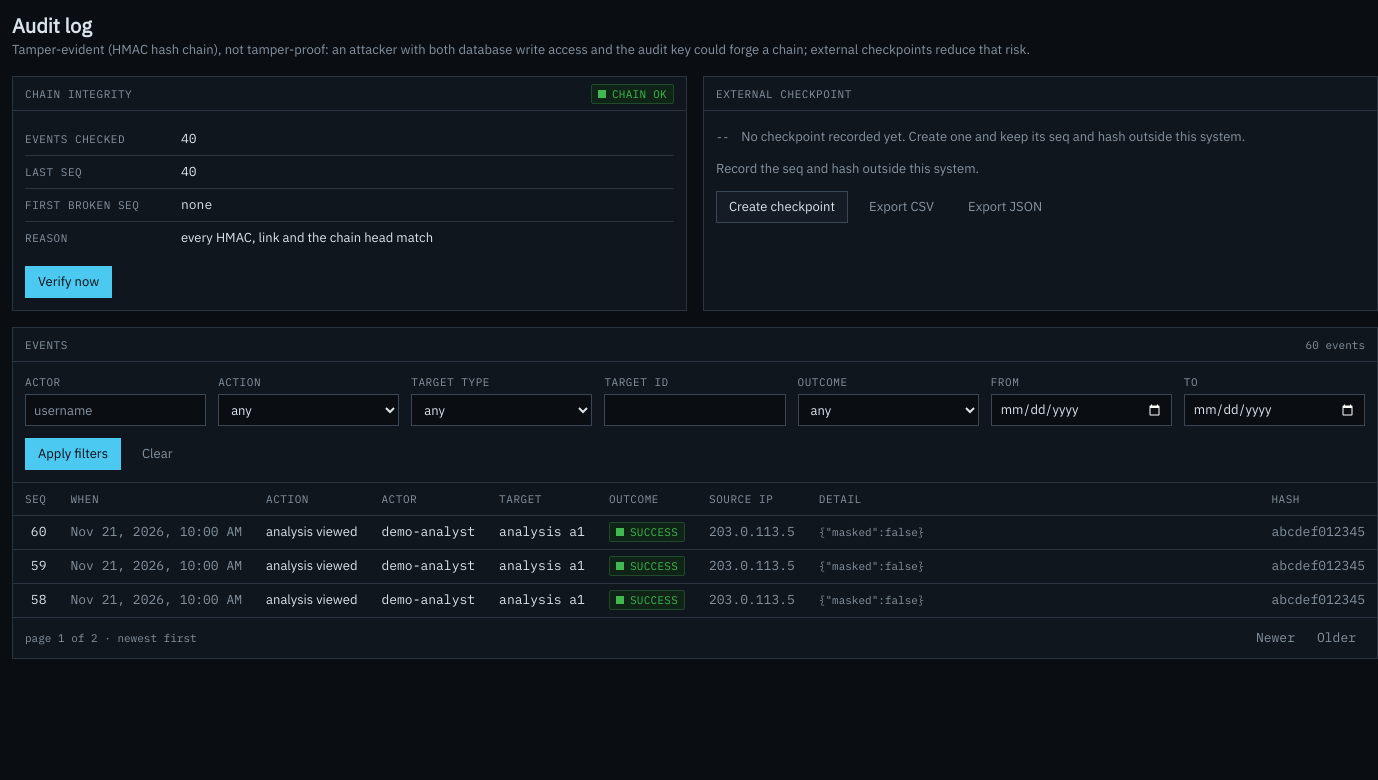
Test: Audit page › Create checkpoint posts and shows the recorded seq
Expected: the text "chain OK" is shown, [591,84,674,104]
Click the button "Create checkpoint" at x=782, y=207, box [716,191,848,223]
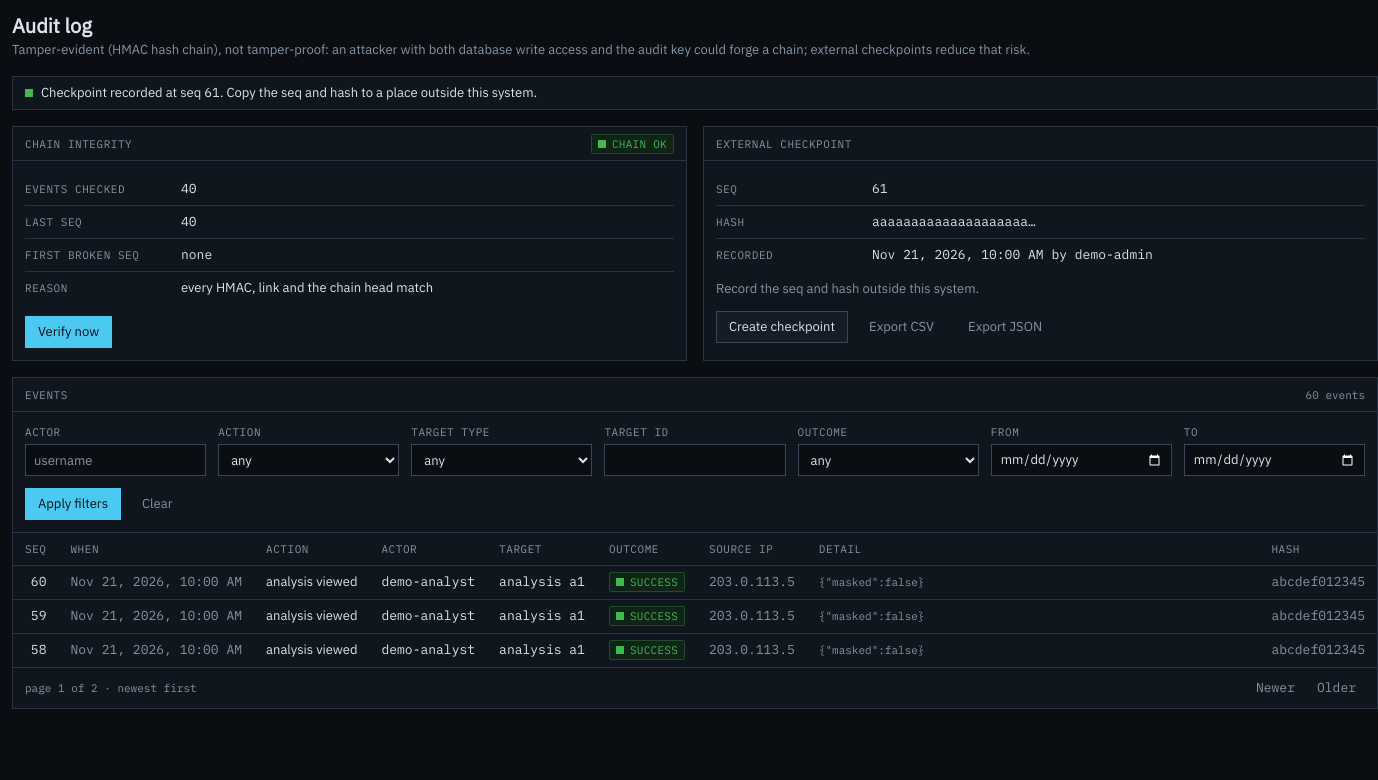
Now the text "Checkpoint recorded at seq 61" is shown, box [41,84,537,101]
Now the element "External checkpoint" shows "61", box [872,180,888,197]
